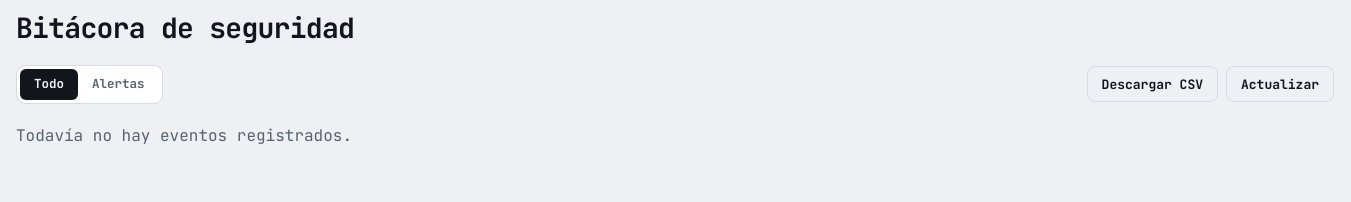
Scenario: PaginaBitacora › descargar CSV › si el archivo quedó recortado lo dice
Check: the text "Todavía no hay eventos registrados." is shown, box [16, 125, 352, 146]
Click the button "Descargar CSV".
click(1152, 84)  # box [1087, 66, 1218, 102]
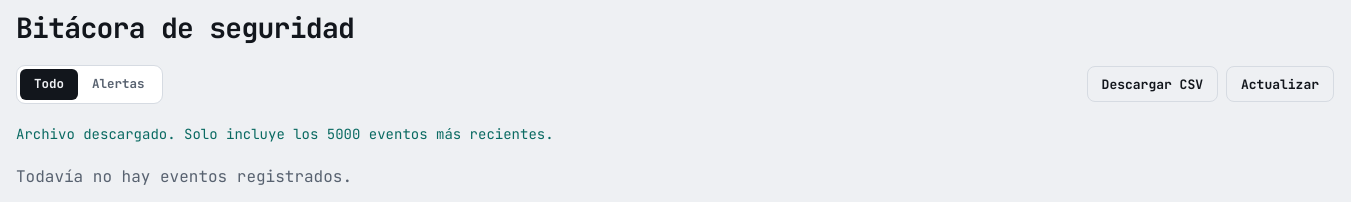
Check: the message shows "Solo incluye los 5000 eventos más recientes", box [16, 125, 554, 143]
